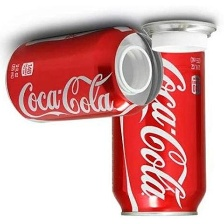can: (107, 42, 209, 219), (5, 24, 163, 125)
